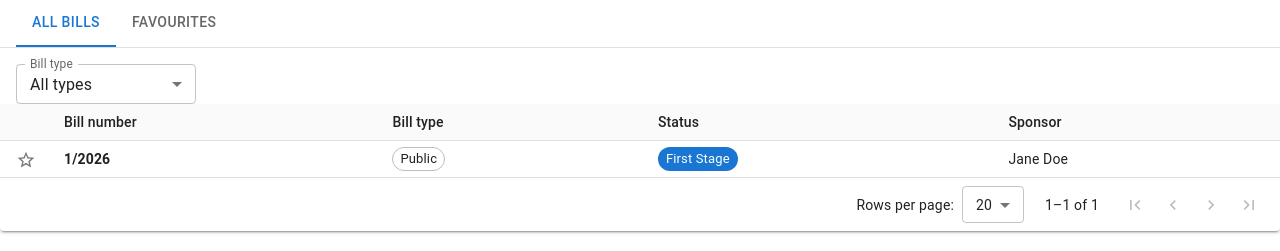
Test: BillsTable › type filter dropdown › shows 'Loading types…' while isBillTypesLoading is true and the dropdown has been opened
Click the dropdown named "bill type". click: click(61, 84)
box: top-left (30, 74), bottom-right (92, 94)
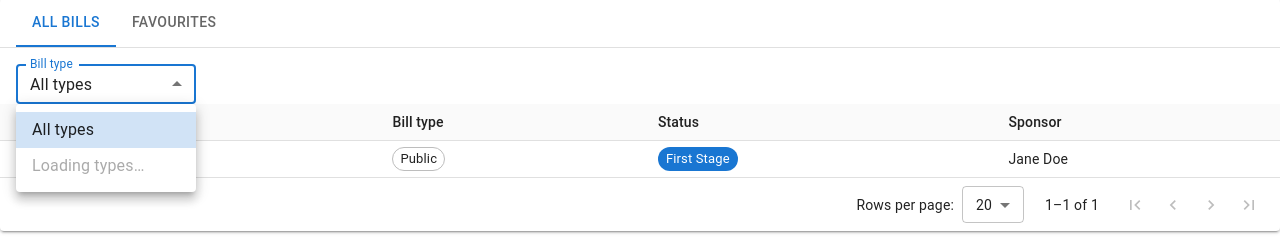
expect the option "Loading types…" is shown: met, box top-left (32, 156), bottom-right (144, 175)
